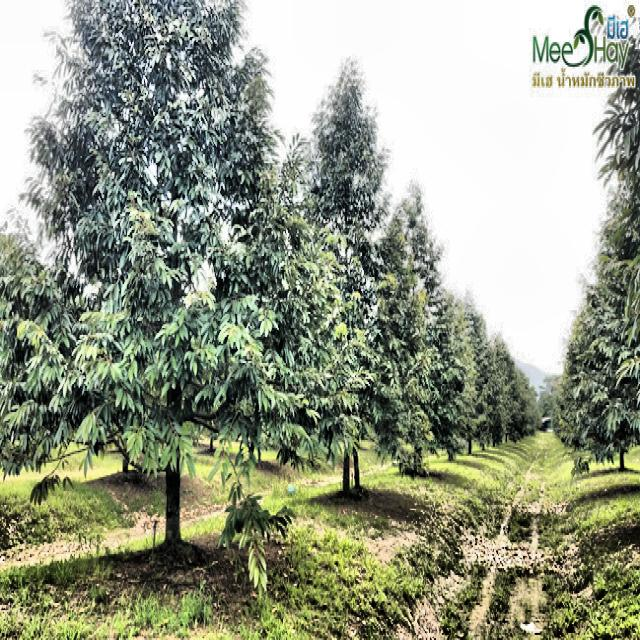arvore: (158, 222, 189, 565), (332, 318, 365, 516)
